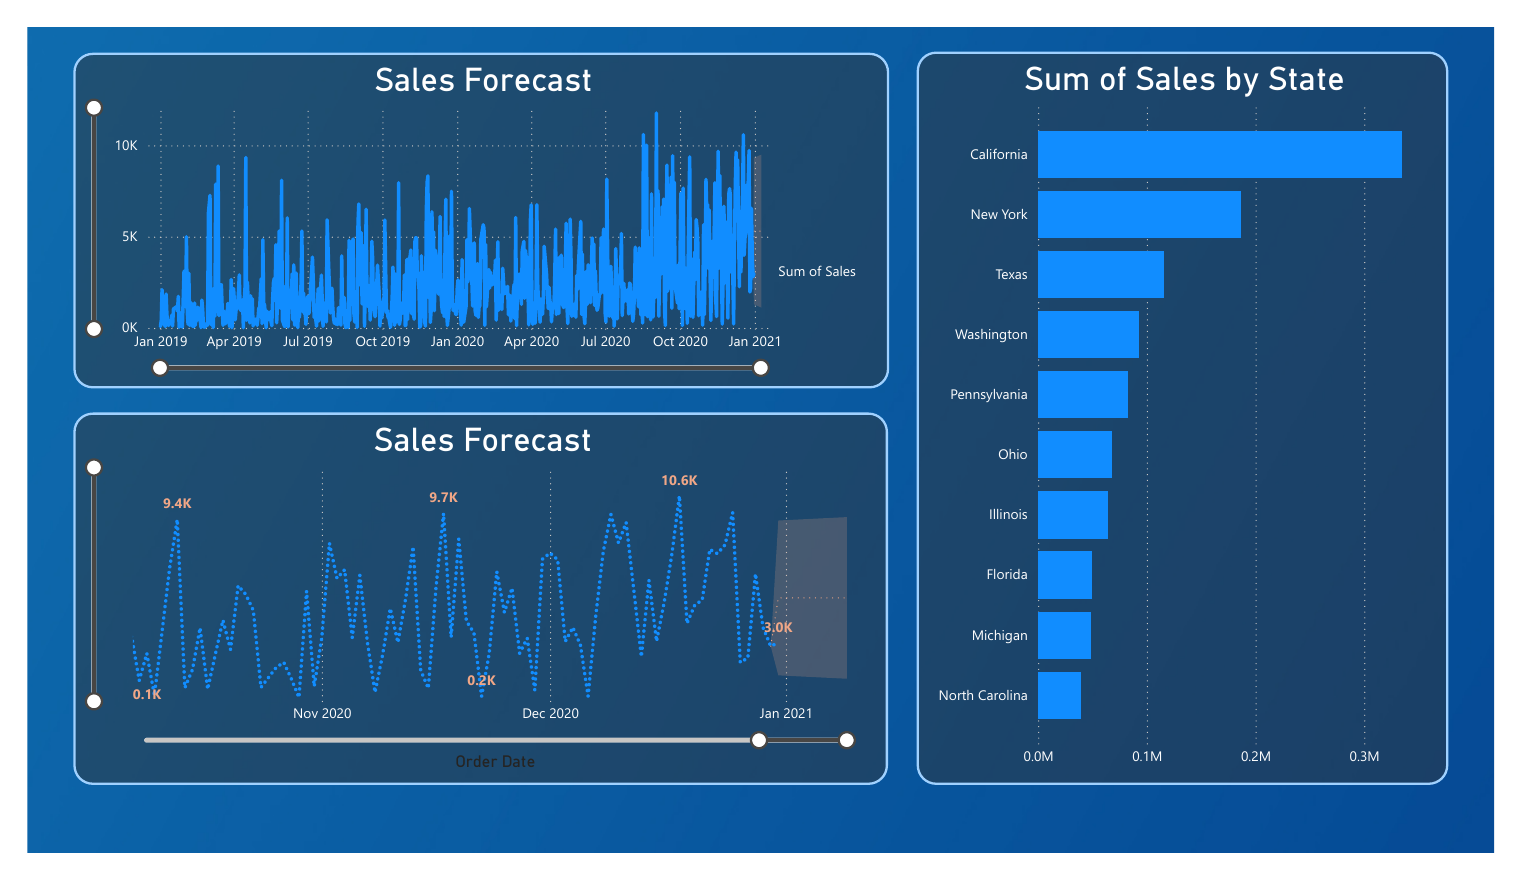

This screenshot's page, from the dashboard's own definition file:
{"tool":"powerbi","page":{"name":"Page 2","canvas":[1280,720],"ordinal":1},"visuals":[{"type":"lineChart","title":"Sales Forecast","fields":{"Y":["Sum(SuperStore_Sales_Dataset.Sales)"],"Category":["SuperStore_Sales_Dataset.Order Date"]},"box":[40,21.7,711.7,293.3],"z":0},{"type":"lineChart","title":"Sales Forecast","fields":{"Y":["Sum(SuperStore_Sales_Dataset.Sales)"],"Category":["SuperStore_Sales_Dataset.Order Date"]},"box":[40,336.2,711.2,325],"z":1000},{"type":"barChart","fields":{"Y":["Sum(SuperStore_Sales_Dataset.Sales)"],"Category":["SuperStore_Sales_Dataset.State"]},"box":[775.7,21.4,464.3,640],"z":2000}]}

Visuals, with their boxes in screenshot pixels (x1, y1, x2, y2), scaled from the page's 1280x720 canvas onto the 1522x880 screenshot:
"Sales Forecast" lineChart: pyautogui.locateOnScreen(48, 27, 894, 385)
"Sales Forecast" lineChart: pyautogui.locateOnScreen(48, 411, 893, 808)
barChart - Sum(SuperStore_Sales_Dataset.Sales) x SuperStore_Sales_Dataset.State: pyautogui.locateOnScreen(922, 26, 1474, 808)
